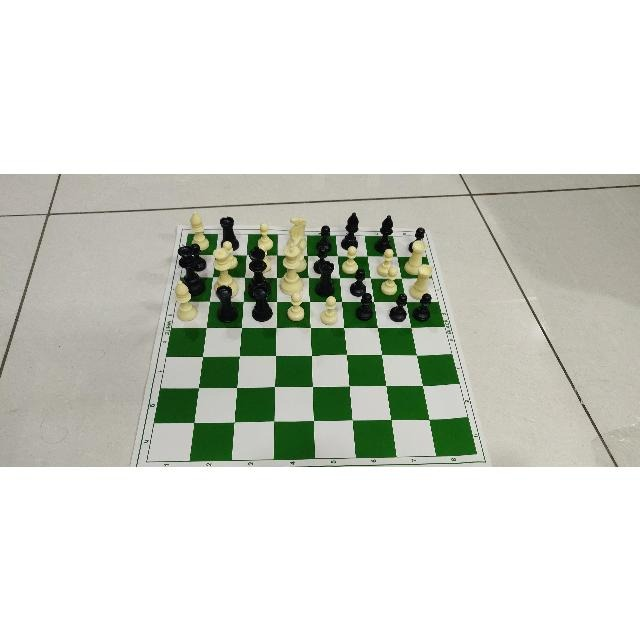black-bishop: (342, 210, 362, 250), (375, 213, 395, 251)
black-king: (245, 243, 273, 299)
black-pawn: (411, 292, 436, 321), (186, 240, 208, 271), (353, 291, 375, 321), (388, 291, 408, 323), (312, 245, 332, 273), (316, 223, 334, 253), (406, 224, 426, 251), (349, 268, 368, 294)
black-queen: (177, 243, 207, 296)
black-rook: (246, 280, 276, 321), (313, 258, 341, 295), (213, 283, 239, 322), (216, 212, 241, 249)
white-bishop: (172, 280, 199, 322), (187, 209, 210, 250)
white-king: (280, 241, 304, 293)
white-knight: (283, 215, 309, 250), (285, 235, 307, 270)
white-pawn: (286, 288, 306, 324), (319, 293, 341, 324), (341, 244, 363, 274), (219, 239, 240, 268), (255, 222, 275, 250), (255, 243, 273, 273), (376, 248, 395, 274), (381, 265, 398, 293)
white-queen: (211, 248, 241, 298)
white-rook: (407, 263, 437, 297), (404, 237, 428, 272)
